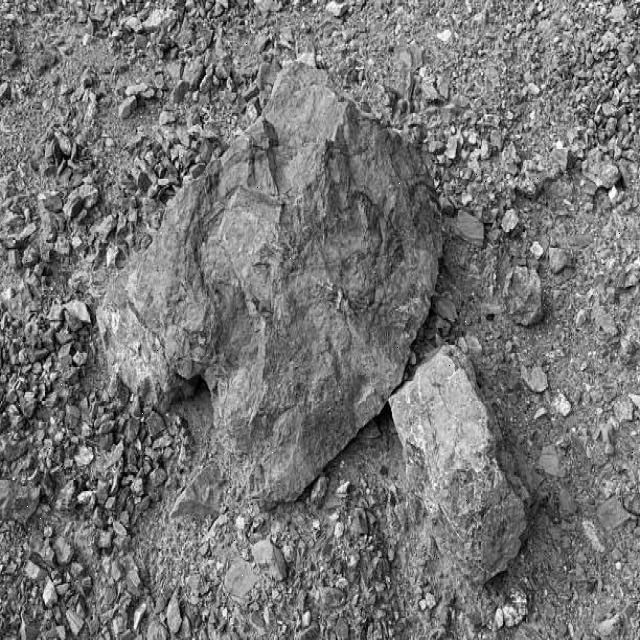Sedimentary: (78, 55, 442, 524), (388, 347, 540, 582)
